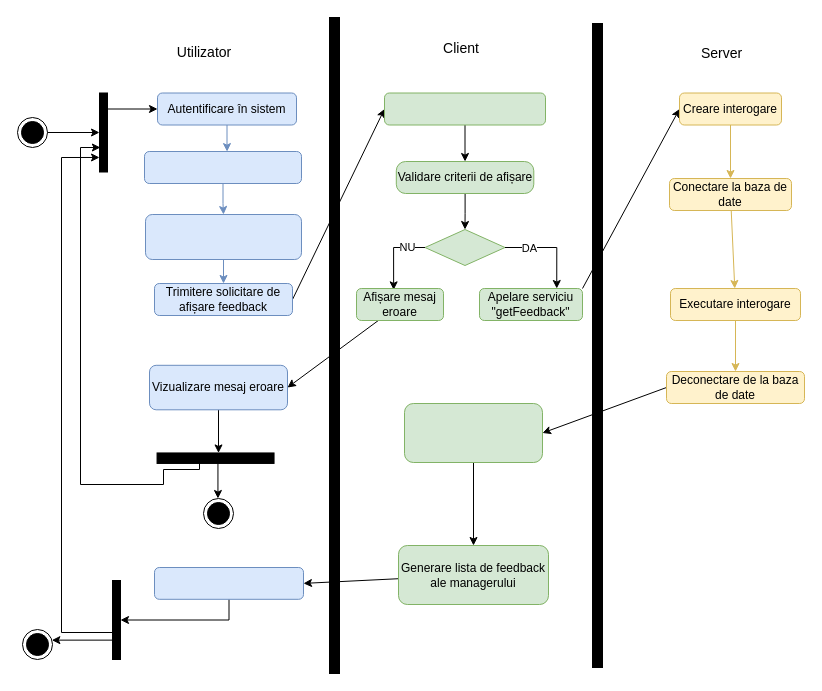
This 822x691 diagram has some shape labels left out. The centre of each missing label's shape, as x and y in pixels:
Preluare rezultat interogare: the point at 473,432
Preluare solicitare vizualizare feedback: the point at 465,108
Selectare feedback manager: the point at 223,237
Selectare opțiune "Vizualizare feedback": the point at 223,167
Vizualizare feedback manager: the point at 229,582
